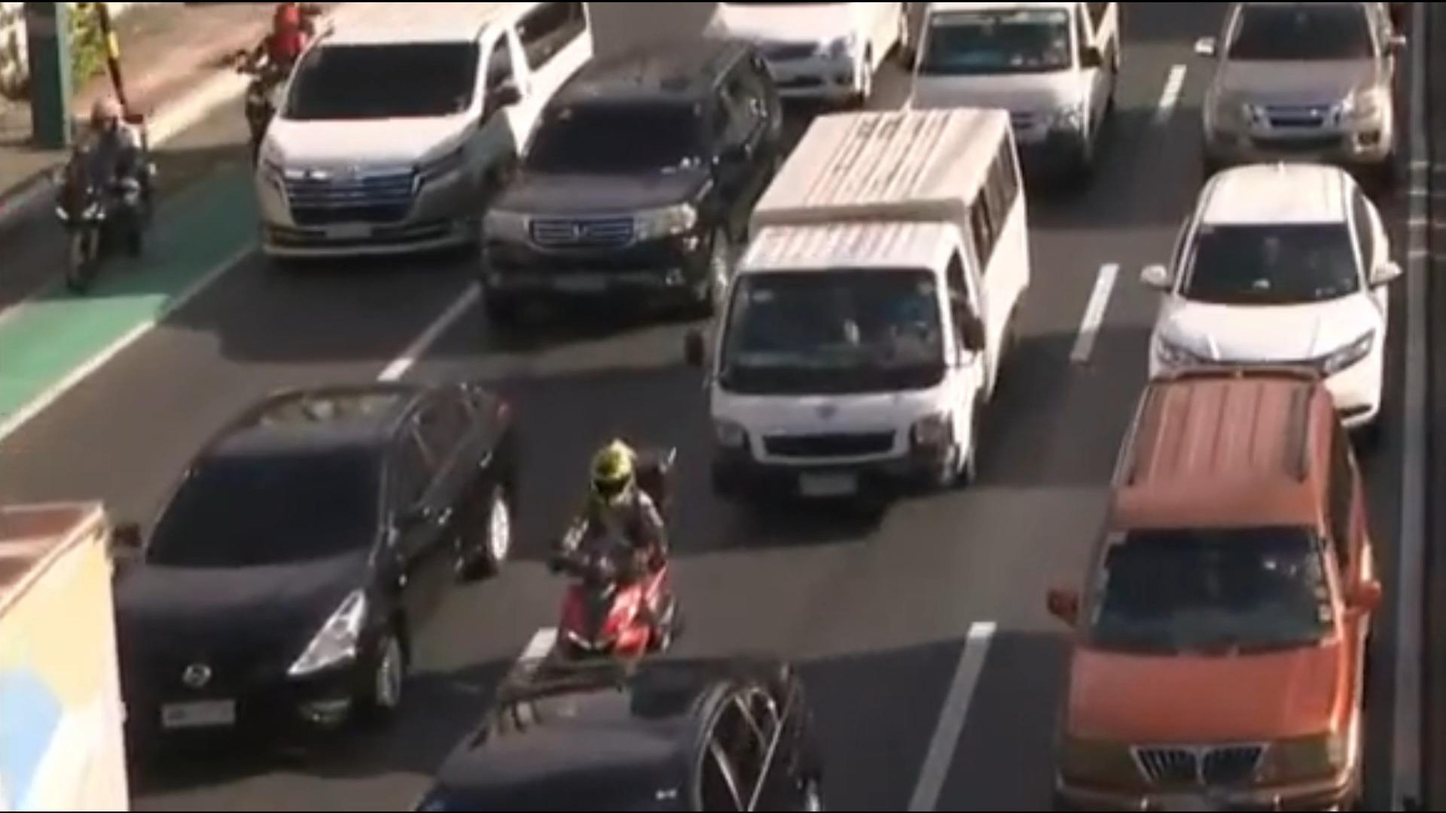Motorcycle: (54, 89, 189, 304), (238, 0, 323, 132)
Multicab: (682, 107, 1057, 531)
SUV: (1015, 364, 1405, 813), (417, 19, 808, 363), (1183, 0, 1414, 172)
Sedan: (103, 360, 539, 743), (1090, 145, 1443, 449), (393, 638, 848, 813)
Van: (200, 0, 605, 280), (887, 0, 1162, 196)
